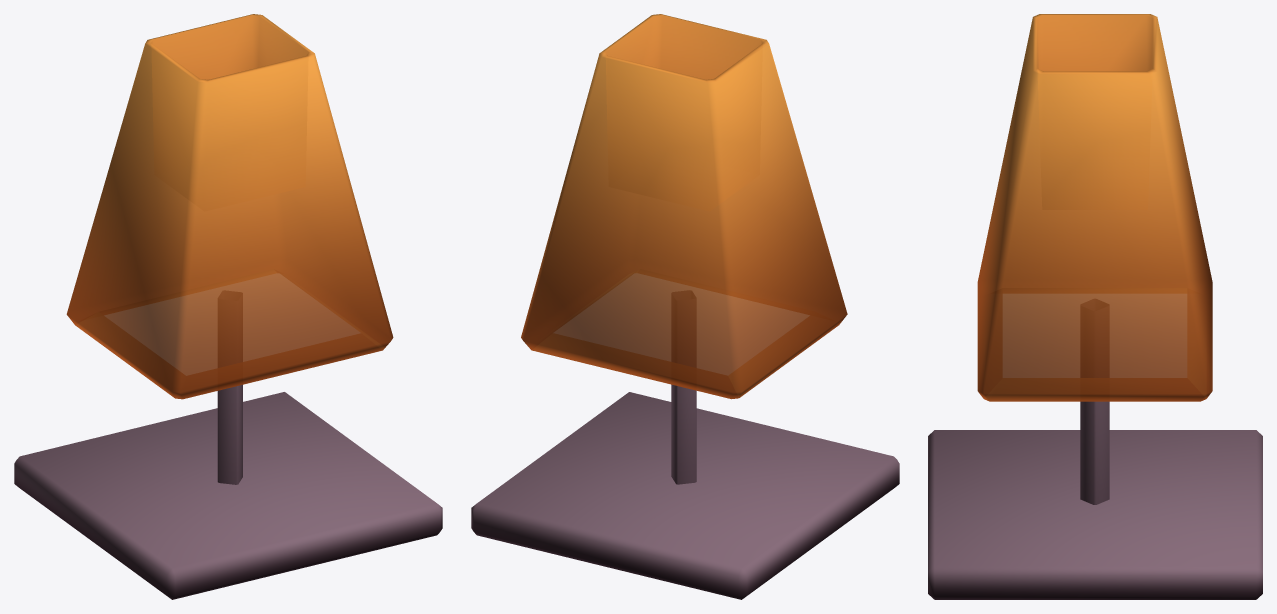
Rendered from mesh_readinglamp_002.fbx.
3 renders of one model, left to right at view 1: azimuth 30°, elevation 25°; view 2: azimuth 150°, elevation 25°; view 3: azimuth 270°, elevation 25°, orthographic. The views are drawn at different scales.
Parts seen in each view (by area): view 1: light_hat_thing, base; view 2: light_hat_thing, base; view 3: light_hat_thing, base.
Part boxes in pixels (x1,y1,x2,y2): light_hat_thing: (66,14,393,399); base: (14,384,442,599); light_hat_thing: (521,14,847,399); base: (471,384,899,599); light_hat_thing: (977,14,1212,401); base: (928,401,1262,599).
Bounding box in the file's own units: 50.25 × 80.76 × 50.11.
